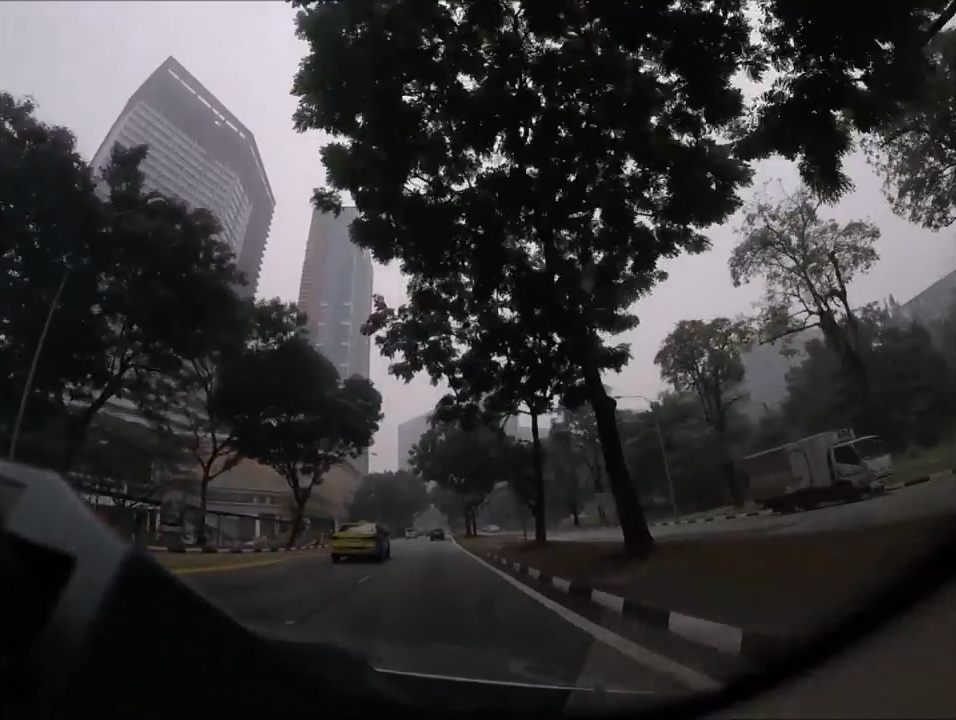bus: (737, 427, 893, 511)
car: (327, 520, 390, 564), (430, 529, 445, 542), (404, 527, 419, 539), (487, 523, 502, 533)
